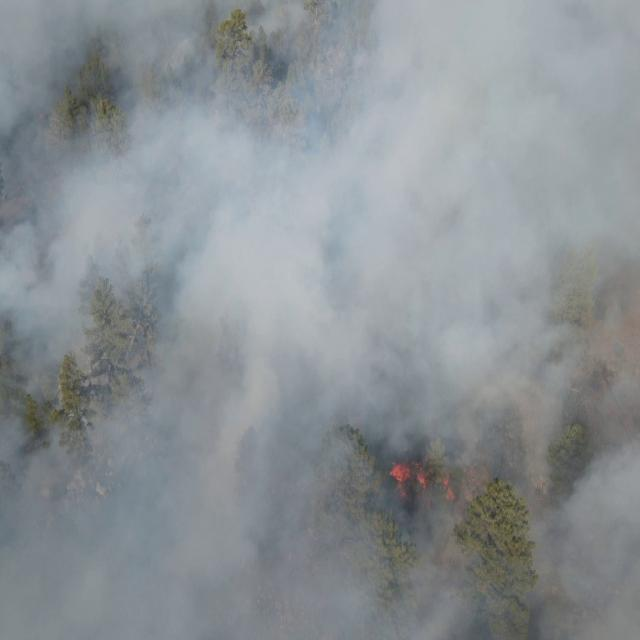fire: (390, 459, 457, 509), (462, 457, 494, 505), (38, 110, 49, 124)
smoke: (0, 0, 640, 640)
